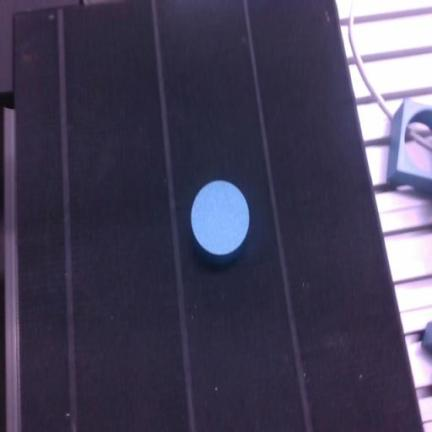cylinder: (191, 180, 249, 261)
